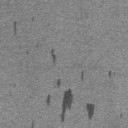red iron: (60, 88, 74, 124), (86, 103, 96, 120), (50, 48, 57, 62), (14, 21, 18, 35), (80, 70, 84, 82), (56, 80, 62, 88), (46, 94, 50, 105), (30, 121, 34, 128), (108, 71, 112, 77)
